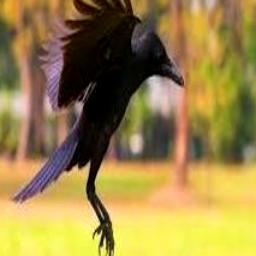Crow: (10, 0, 184, 256)
